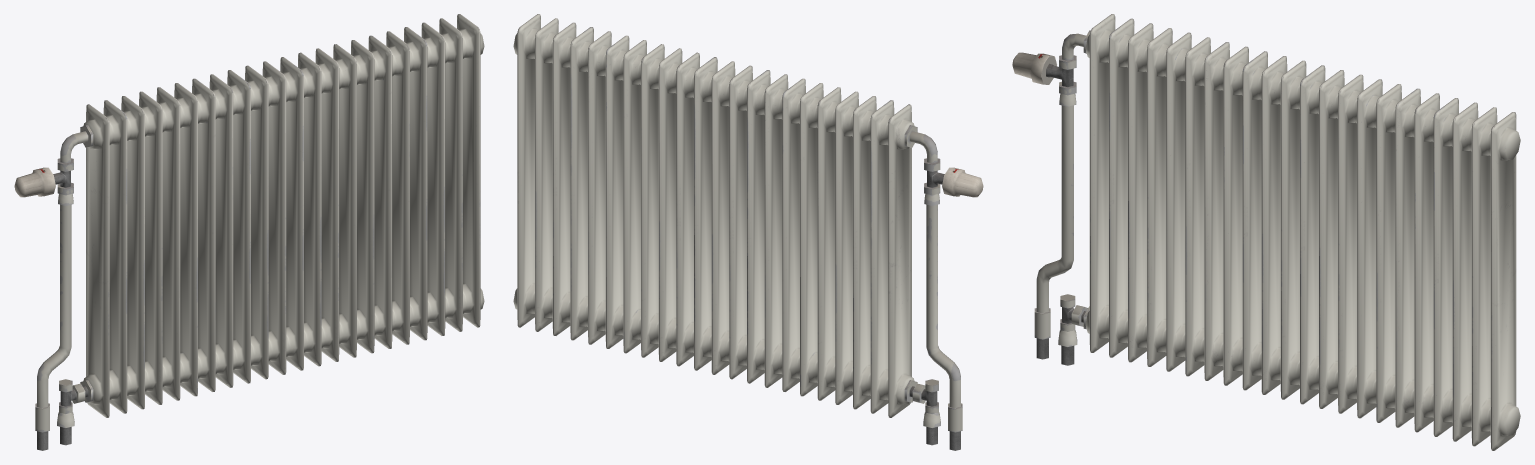
Rendered from Radiator.fbx.
The picture shows the model from 3 angles, left to right: view 1: azimuth 30°, elevation 25°; view 2: azimuth 150°, elevation 25°; view 3: azimuth 330°, elevation 25°; orthographic projection. The views are drawn at different scales.
Parts seen in each view (by area): view 1: Complete; view 2: Complete; view 3: Complete.
Boxes of the visible parts, <box> form: Complete: <box>14,14,484,450</box>; Complete: <box>513,14,983,450</box>; Complete: <box>1012,14,1520,450</box>.
Bounding box in the file's own units: 9093 × 6110 × 757.
1 material, 1 textured.
